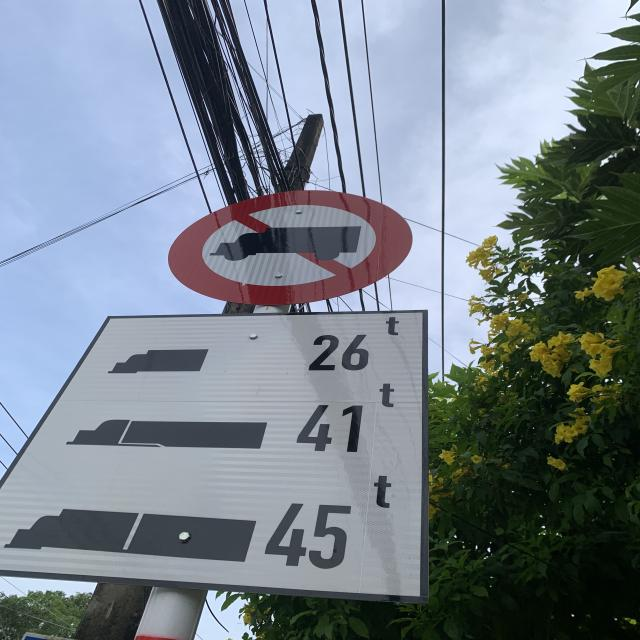Cam_Xe_Tai: (166, 189, 414, 305)
